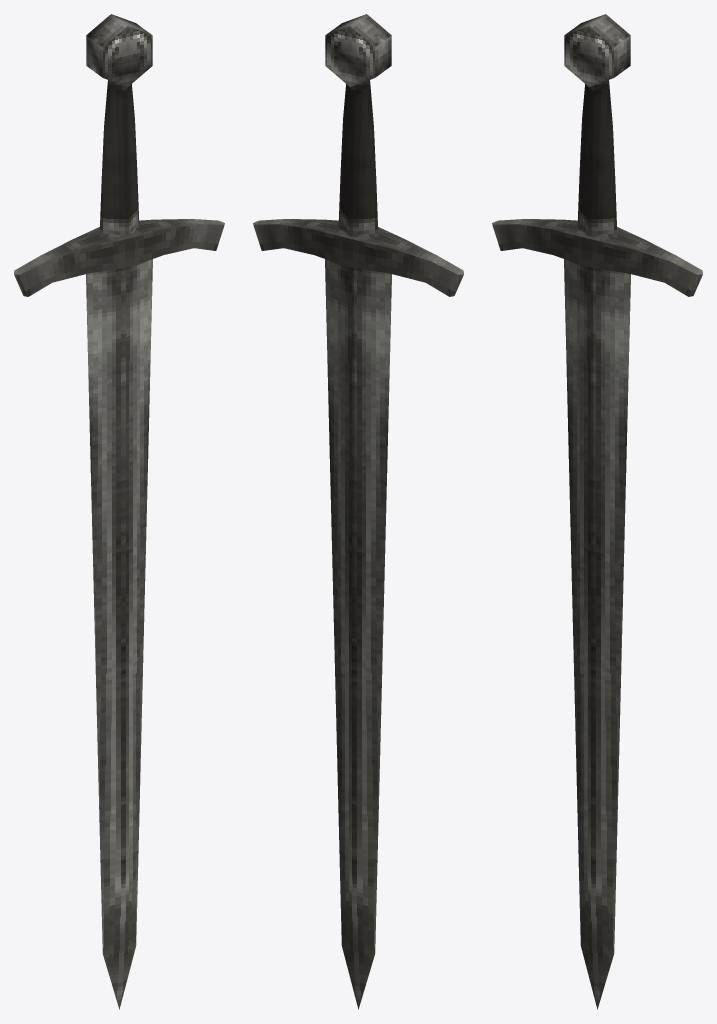
The model's file is psx_sword__espada_ps1.glb.
3 views of the same model, side by side, from view 1: azimuth 30°, elevation 25°; view 2: azimuth 150°, elevation 25°; view 3: azimuth 330°, elevation 25° (orthographic).
Parts seen in each view (by area): view 1: Espada; view 2: Espada; view 3: Espada.
Boxes of the visible parts, <box> form: Espada: <box>14,14,224,1009</box>; Espada: <box>253,14,463,1009</box>; Espada: <box>492,14,702,1009</box>.
Size of the model in its own units: 0.2998 by 1.34 by 0.0523.
Materials: 1 (1 with a texture image).
